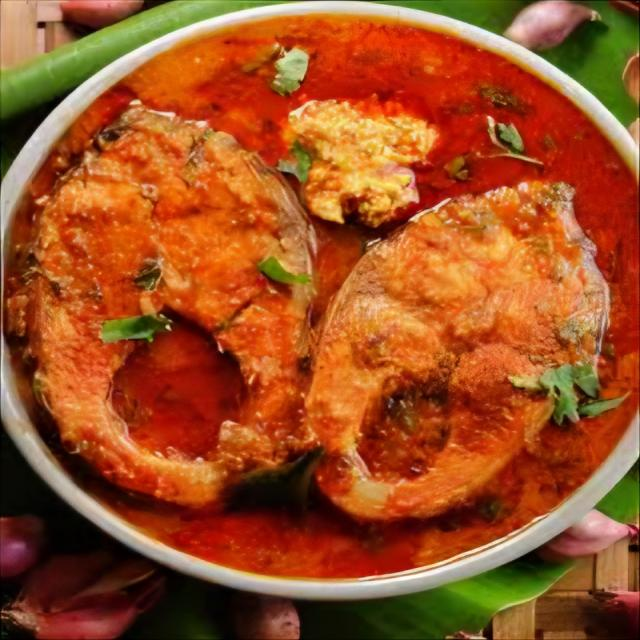FISH CURRY: (5, 15, 639, 579)
